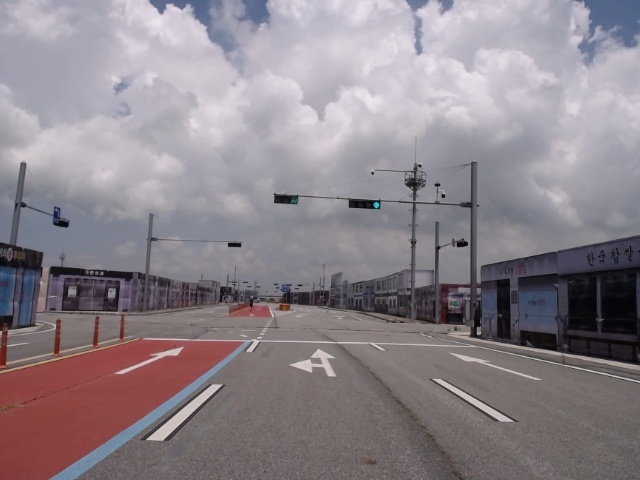straight_green_4: (349, 198, 382, 210)
